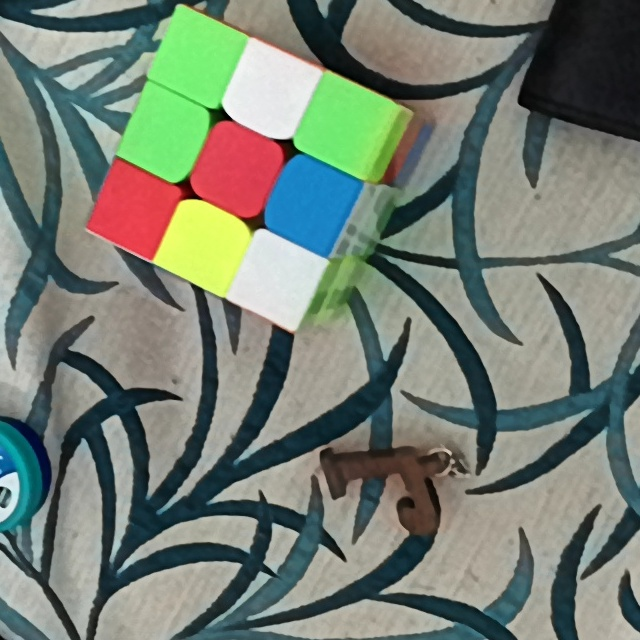tile: (246, 251, 306, 307), (314, 99, 375, 153), (206, 145, 267, 199), (165, 35, 224, 88), (281, 178, 339, 230), (241, 68, 295, 122), (136, 113, 192, 163), (173, 224, 232, 271), (105, 182, 161, 230)
